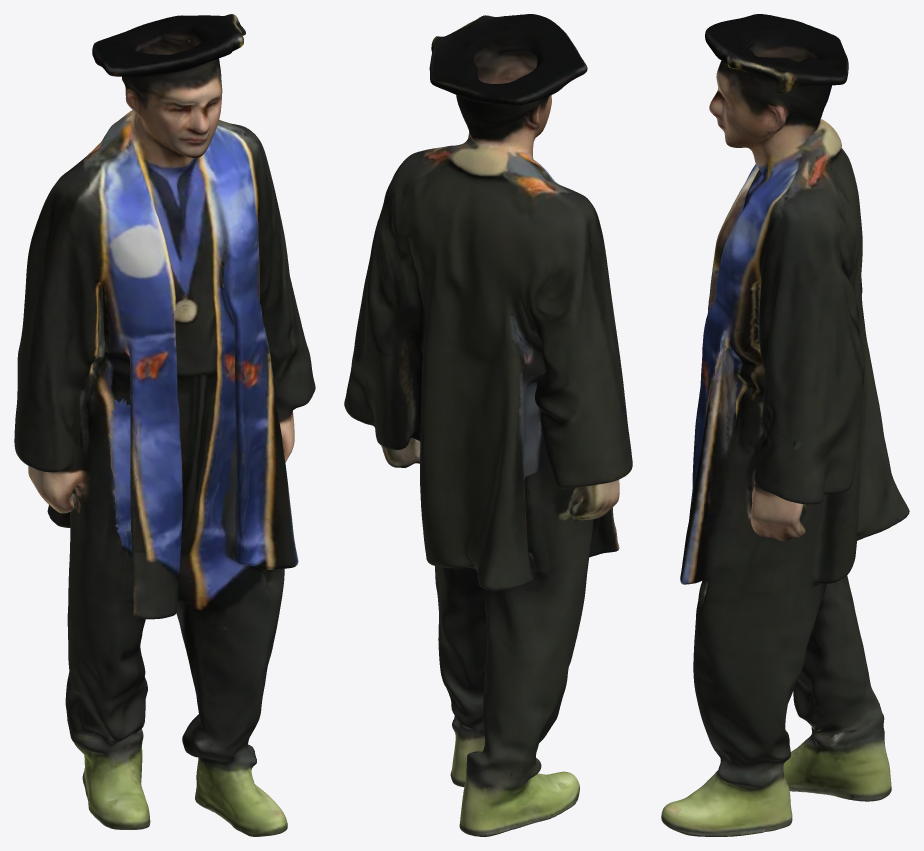
File: AlecGrad-transformed.glb
The picture shows the model from 3 angles, left to right: view 1: azimuth 30°, elevation 25°; view 2: azimuth 150°, elevation 25°; view 3: azimuth 270°, elevation 25°; orthographic projection. The views are drawn at different scales.
Size of the model in its own units: 0.7747 by 2 by 0.5831.
1 material, 1 textured.
